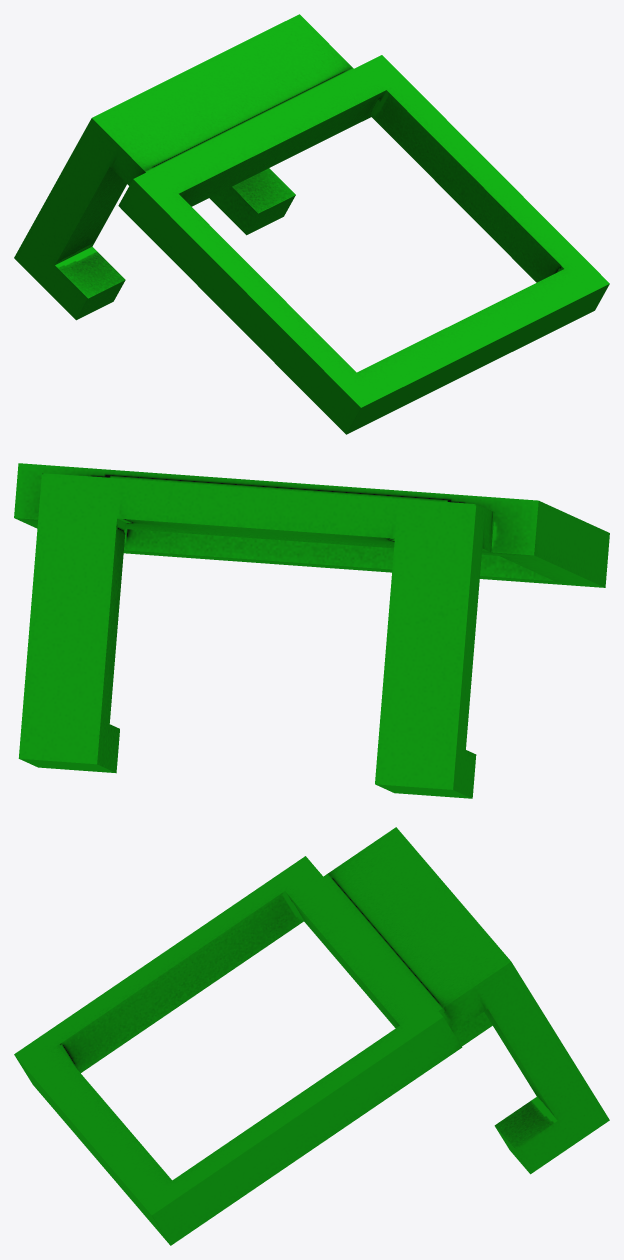
Rendered from ld36-accessories-screen.fbx.
3 renders of one model, top to bottom at view 1: azimuth 30°, elevation 25°; view 2: azimuth 150°, elevation 25°; view 3: azimuth 270°, elevation 25°, orthographic. The views are drawn at different scales.
Parts seen in each view (by area): view 1: GameBox-Magnifier; view 2: GameBox-Magnifier; view 3: GameBox-Magnifier.
Boxes of the visible parts, x1=… form: GameBox-Magnifier: x1=14, y1=14, x2=609, y2=434; GameBox-Magnifier: x1=14, y1=463, x2=609, y2=798; GameBox-Magnifier: x1=14, y1=827, x2=609, y2=1245.
Size of the model in its own units: 248 by 115 by 285.
